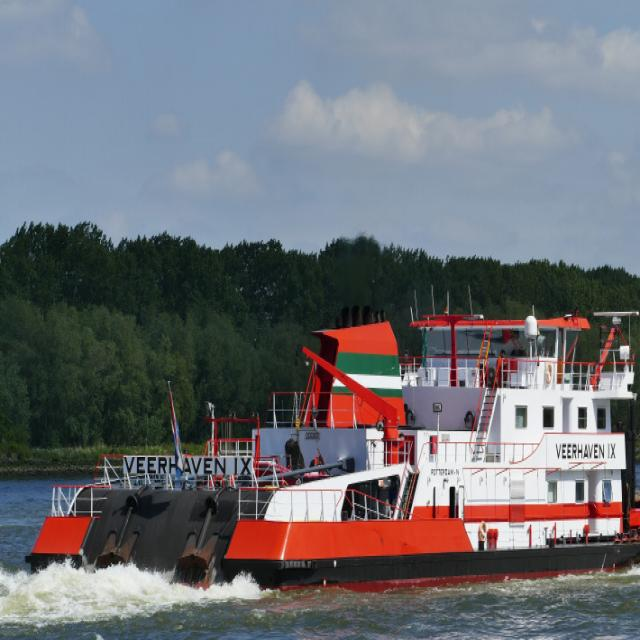tugboat: (18, 303, 640, 595)
